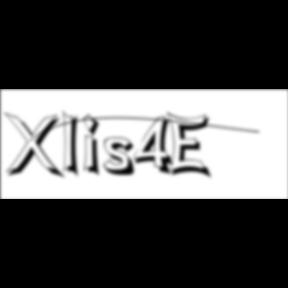4: (132, 115, 180, 179)
E: (168, 110, 216, 182)
X: (3, 112, 67, 182)
i: (83, 112, 107, 180)
l: (62, 108, 86, 182)
s: (104, 137, 142, 179)
